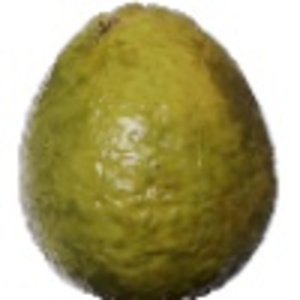goiaba: (11, 1, 280, 299)
